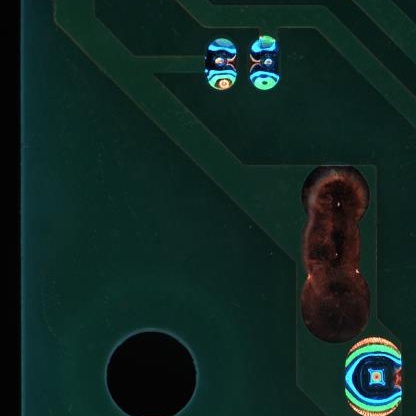spot: (343, 337, 404, 416), (249, 35, 282, 92), (205, 36, 238, 89)
